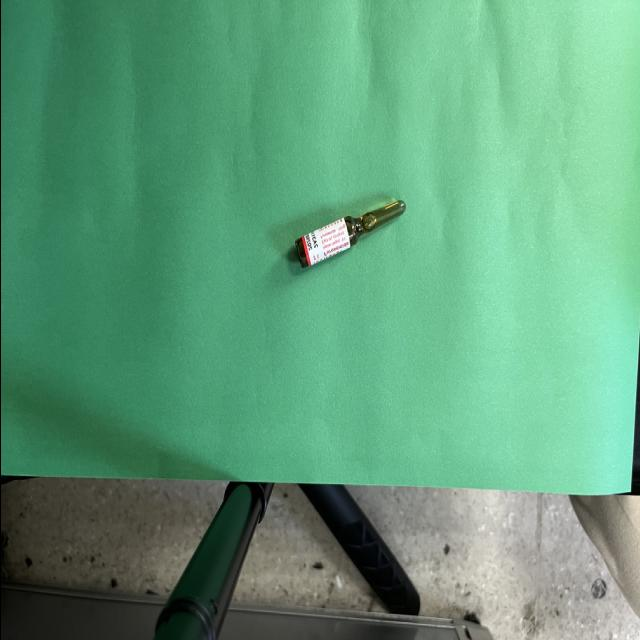Ampoules: (294, 201, 405, 268)
